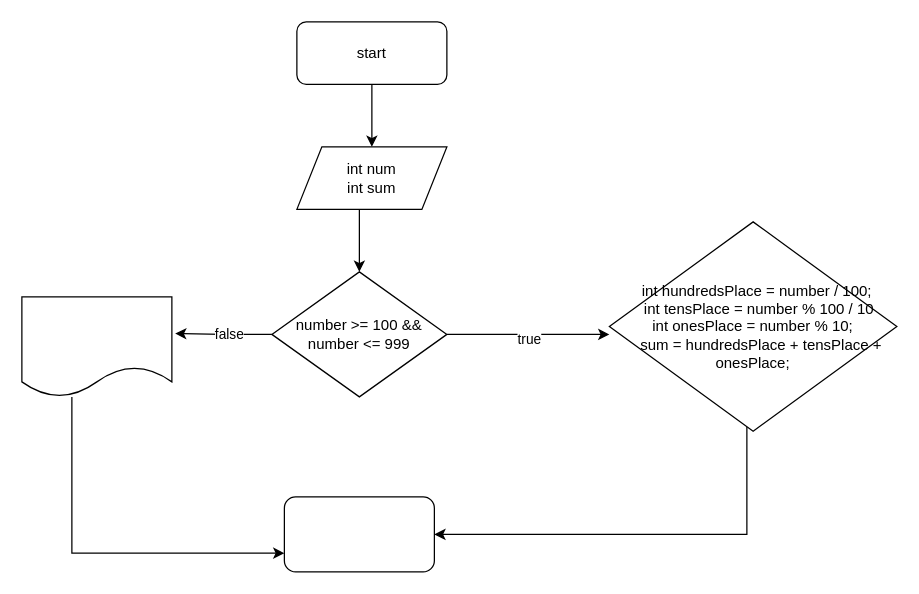
Image size: 919x594. Some labels were removed from this diagram. The centre of each missing label's shape, as x and y in pixels:
"end" goes at point (358, 534).
"Xeta ancaq 3 reqemli eded daxil ede bilersen" goes at point (96, 346).
